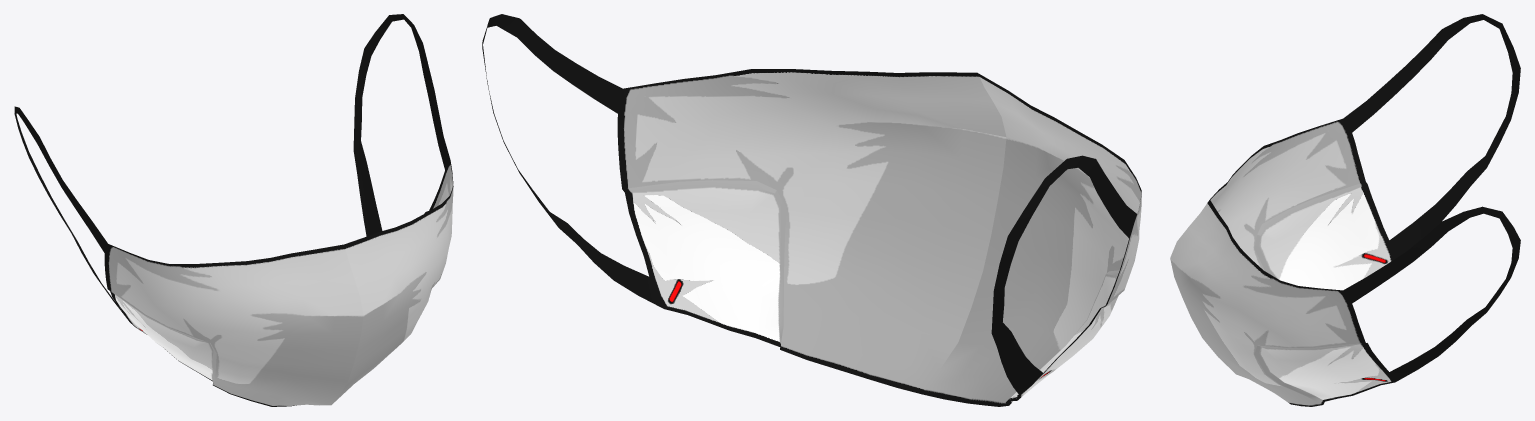
The model's file is KULT_mask-pearl.glb.
3 renders of one model, left to right at view 1: azimuth 30°, elevation 25°; view 2: azimuth 150°, elevation 25°; view 3: azimuth 270°, elevation 25°, orthographic. The views are drawn at different scales.
Parts seen in each view (by area): view 1: Plane; view 2: Plane; view 3: Plane.
Boxes of the visible parts, x1,y1,x2,y2 form: Plane: [14, 14, 453, 406]; Plane: [482, 14, 1141, 406]; Plane: [1170, 14, 1520, 406].
Bounding box in the file's own units: 0.1901 × 0.1283 × 0.145.
1 material, 1 textured.
